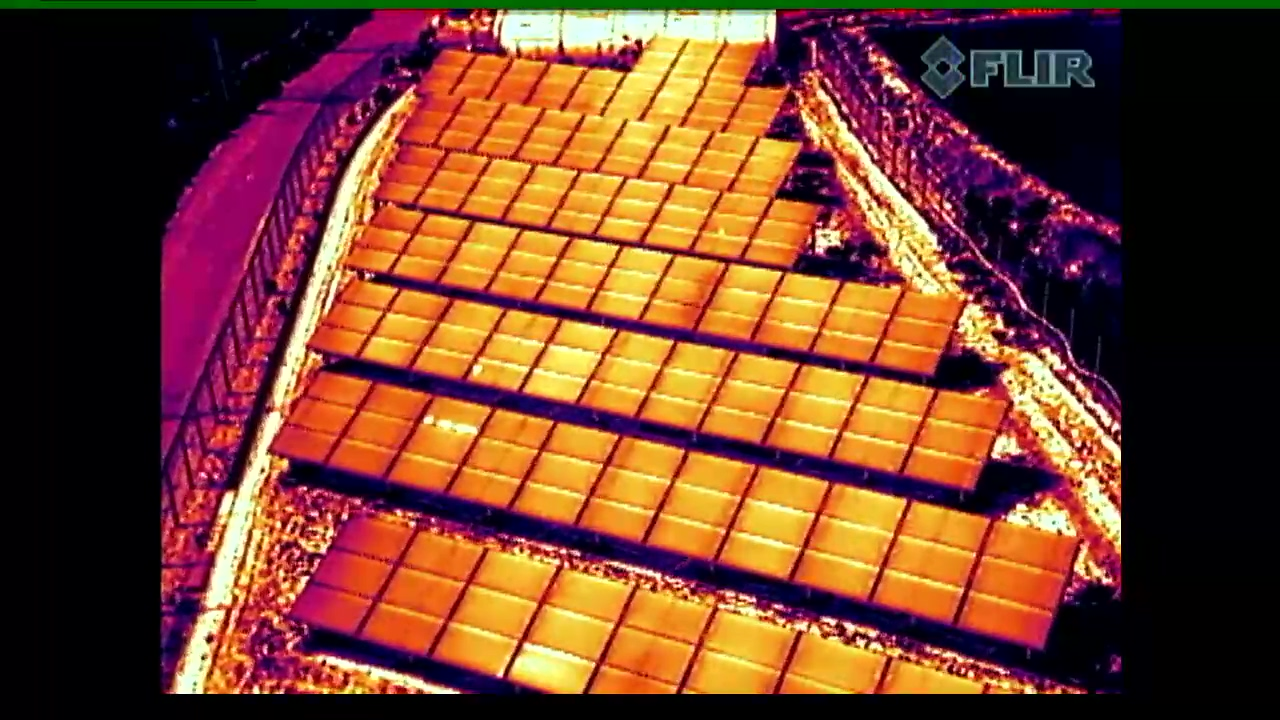hotspot: (385, 395, 494, 506), (464, 307, 561, 396), (689, 192, 772, 264)
